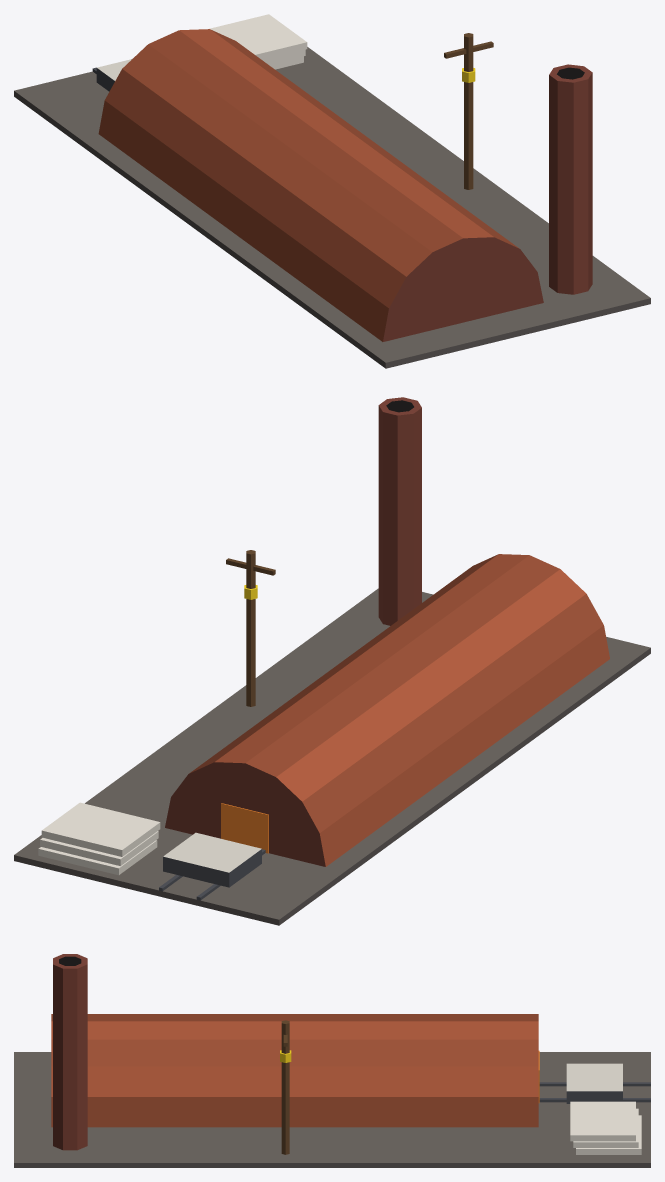
Rendered from tile_kiln.obj.
3 views of the same model, one above another, from view 1: azimuth 30°, elevation 25°; view 2: azimuth 150°, elevation 25°; view 3: azimuth 270°, elevation 25° (orthographic). The views are drawn at different scales.
Bounding box in the file's own units: 2.8 × 2.2 × 6.8.
